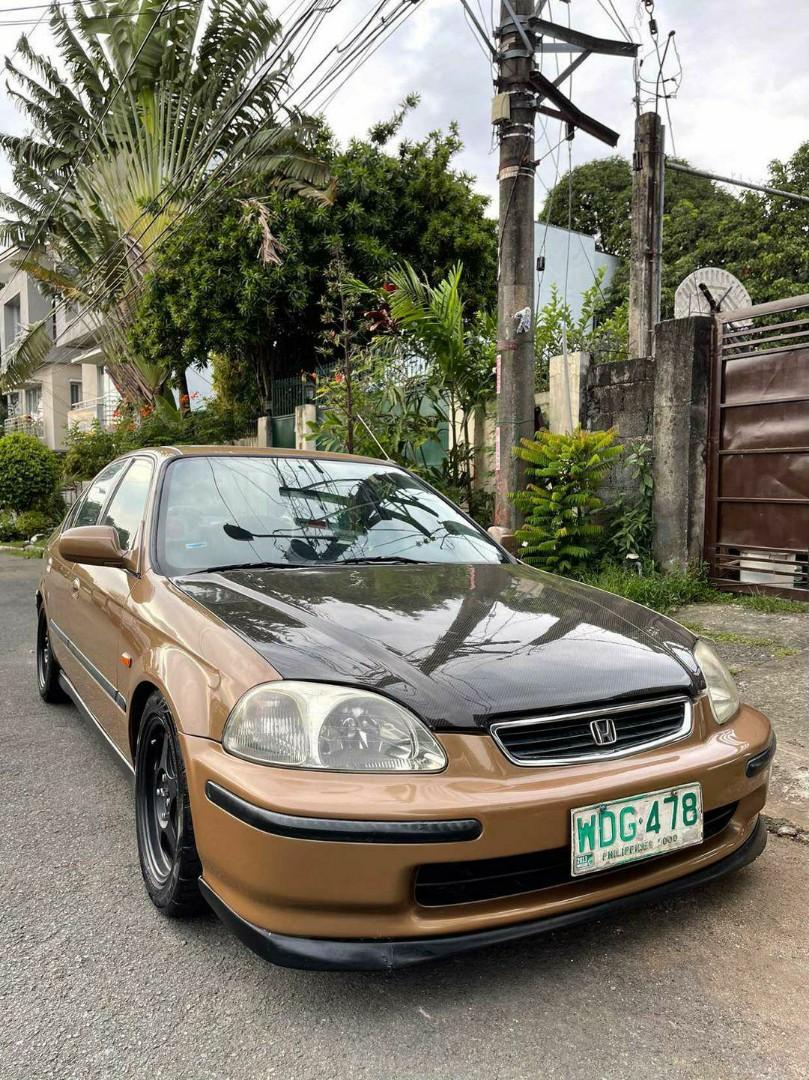car: (33, 439, 780, 984)
